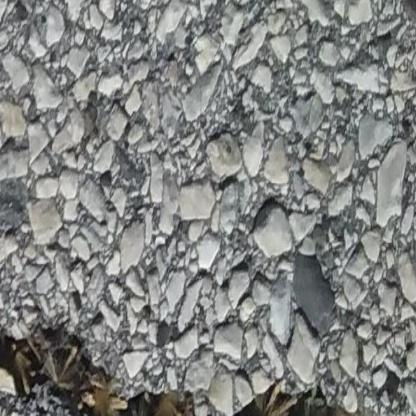Cracks: (0, 314, 407, 416)
